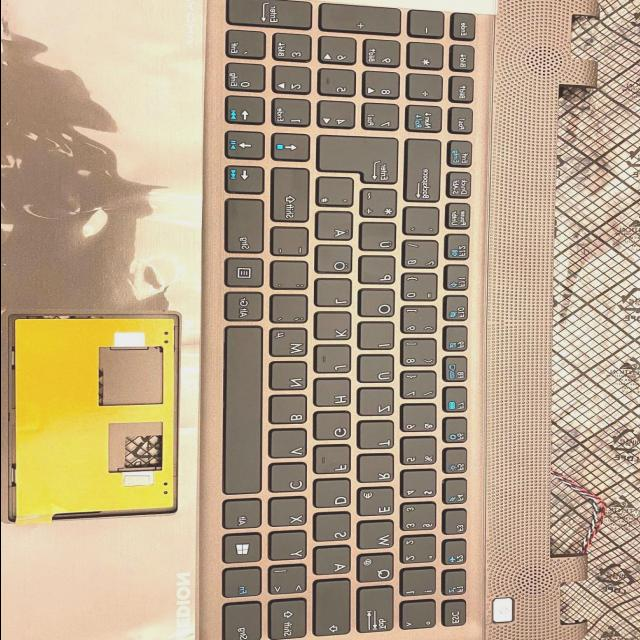0: (404, 274, 441, 304)
1: (402, 569, 439, 598)
2: (402, 537, 438, 566)
3: (401, 504, 439, 533)
4: (403, 472, 439, 500)
5: (403, 439, 439, 467)
6: (402, 406, 439, 434)
7: (402, 373, 439, 401)
8: (402, 340, 439, 368)
9: (403, 307, 441, 336)
a: (315, 548, 354, 577)
accent: (405, 209, 442, 237)
ae: (318, 213, 356, 243)
alt-left: (225, 502, 265, 532)
altgr-right: (226, 294, 266, 324)
b: (271, 397, 310, 427)
c: (271, 465, 310, 495)
caret: (403, 603, 439, 632)
comma: (271, 296, 310, 326)
d: (315, 481, 354, 510)
del: (407, 141, 445, 205)
e: (359, 489, 397, 518)
enter: (319, 138, 403, 188)
f: (315, 448, 354, 476)
g: (316, 414, 354, 442)
h: (316, 380, 354, 409)
hash: (318, 179, 356, 209)
i: (359, 324, 397, 352)
j: (316, 347, 354, 375)
k: (317, 314, 355, 342)
keyboard: (204, 0, 496, 640)
l: (316, 280, 355, 309)
less: (269, 566, 309, 596)
m: (271, 330, 311, 360)
minus: (272, 229, 311, 259)
n: (272, 364, 310, 393)
o: (360, 291, 398, 320)
oe: (317, 247, 355, 276)
p: (360, 257, 398, 287)
plus: (362, 190, 401, 220)
point: (273, 262, 311, 292)
q: (359, 555, 397, 585)
r: (359, 456, 397, 485)
s: (315, 515, 354, 544)
shift-left: (270, 600, 310, 640)
shift-lock: (316, 582, 355, 640)
shift-right: (273, 169, 313, 225)
space: (226, 329, 266, 497)
ss: (404, 241, 441, 271)
strg-left: (224, 604, 266, 640)
strg-right: (227, 201, 267, 258)
t: (360, 423, 397, 451)
tab: (359, 589, 398, 636)
u: (359, 357, 397, 385)
ue: (361, 224, 399, 254)
v: (270, 431, 310, 461)
w: (360, 523, 398, 551)
x: (270, 499, 310, 529)
y: (271, 532, 310, 562)
z: (359, 390, 397, 418)
